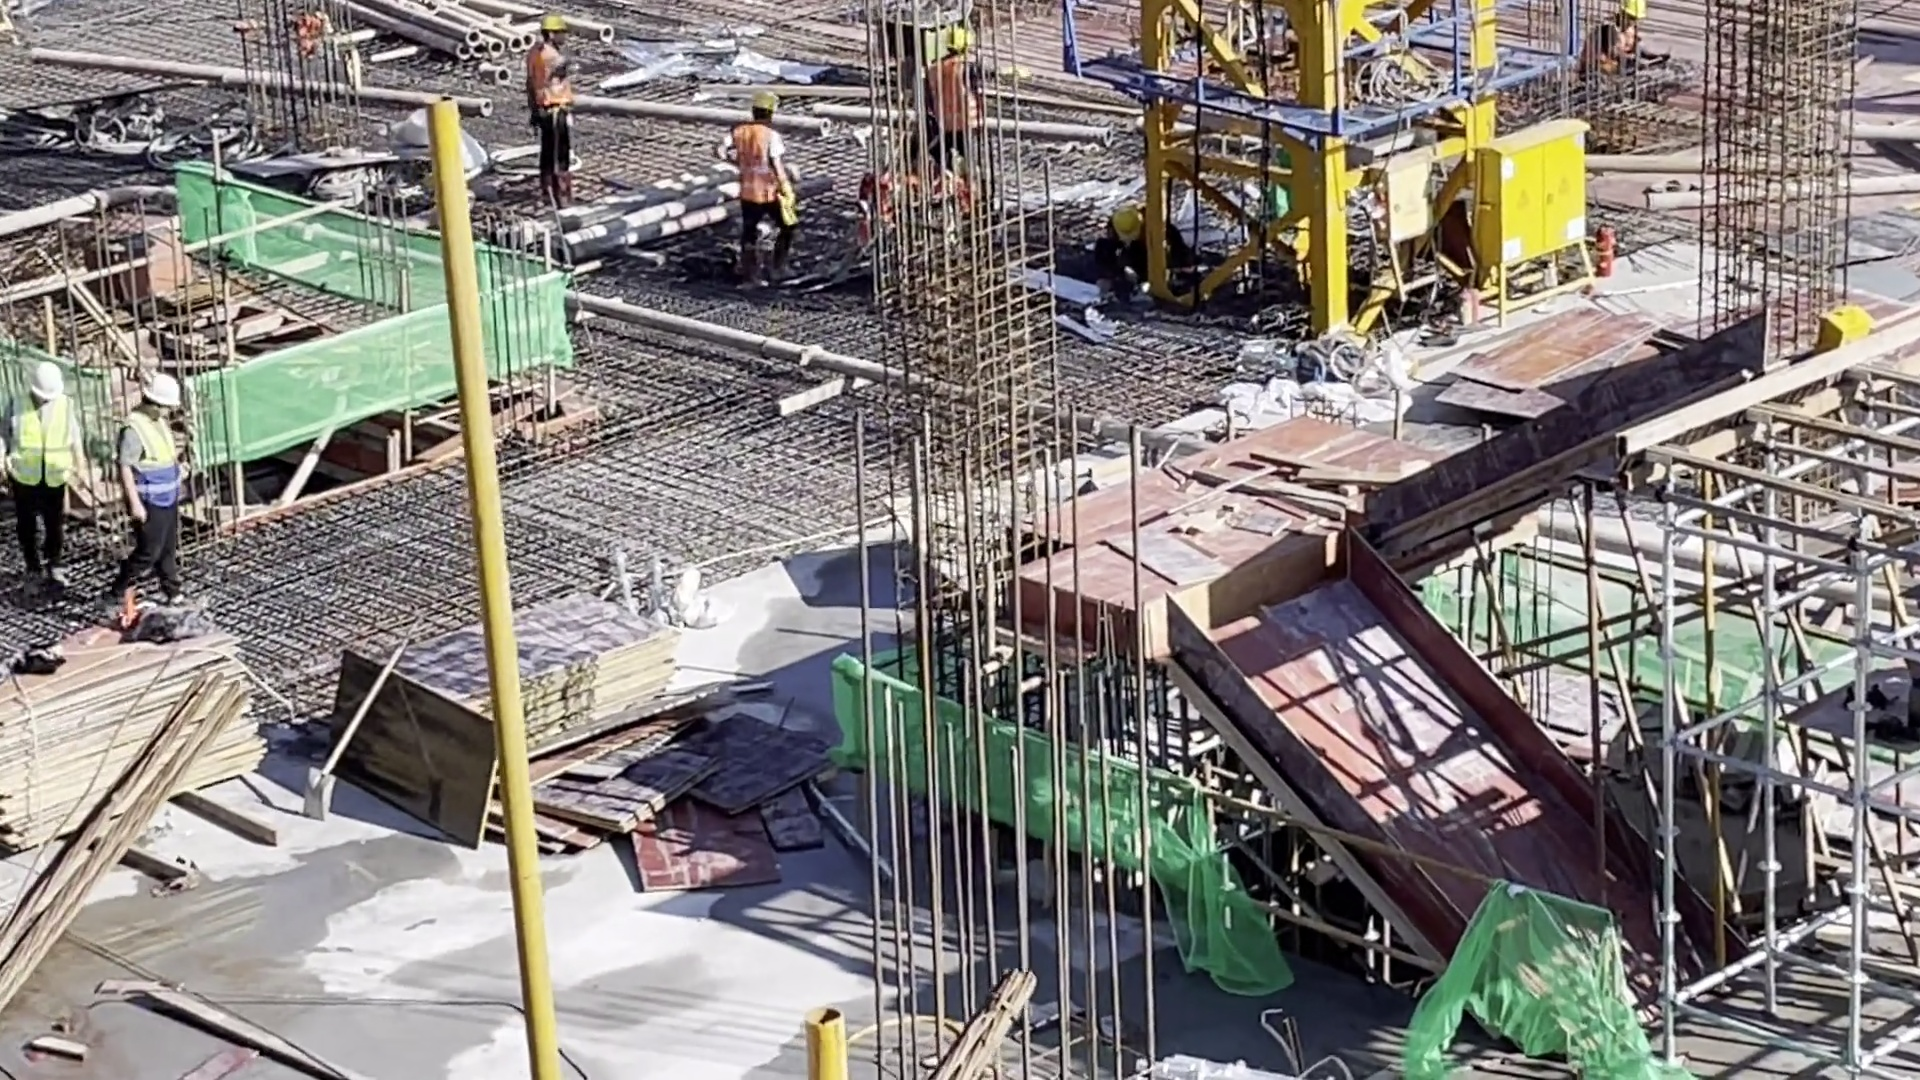helmet: (18, 356, 66, 401), (140, 372, 183, 409), (1109, 208, 1141, 240), (751, 86, 780, 119), (537, 13, 572, 39), (946, 25, 976, 56), (1620, 2, 1647, 21)
person: (4, 356, 93, 605), (119, 375, 196, 631), (519, 16, 592, 213), (732, 90, 804, 287), (934, 28, 1001, 190), (1096, 194, 1178, 293), (1585, 4, 1652, 95)
vest: (11, 395, 73, 488), (121, 413, 178, 510), (520, 40, 576, 123), (736, 121, 784, 209), (937, 60, 978, 145), (1592, 17, 1635, 76)
